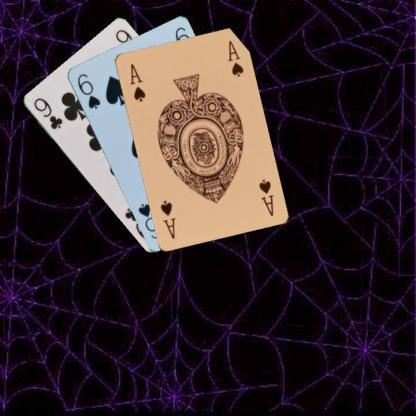6s: (74, 70, 102, 110)
9c: (30, 94, 64, 130)
As: (127, 61, 147, 103), (256, 176, 274, 217)
